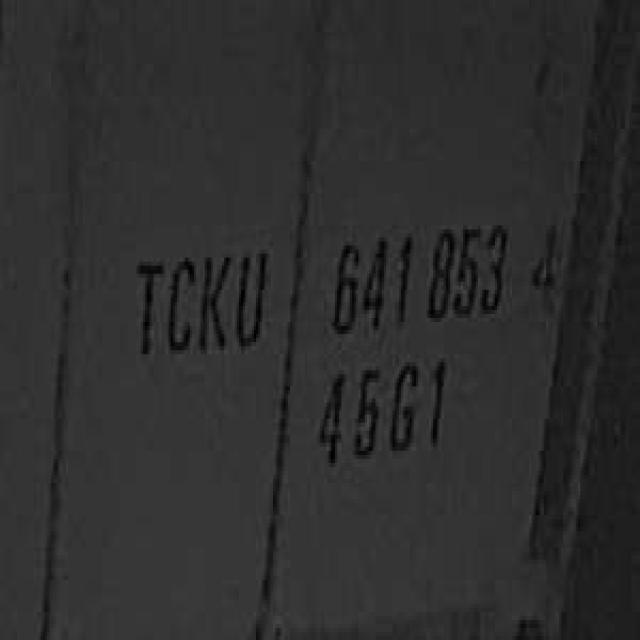dv: (524, 205, 566, 336)
owner: (126, 230, 271, 366)
serial: (324, 205, 512, 342)
size: (310, 346, 452, 479)
